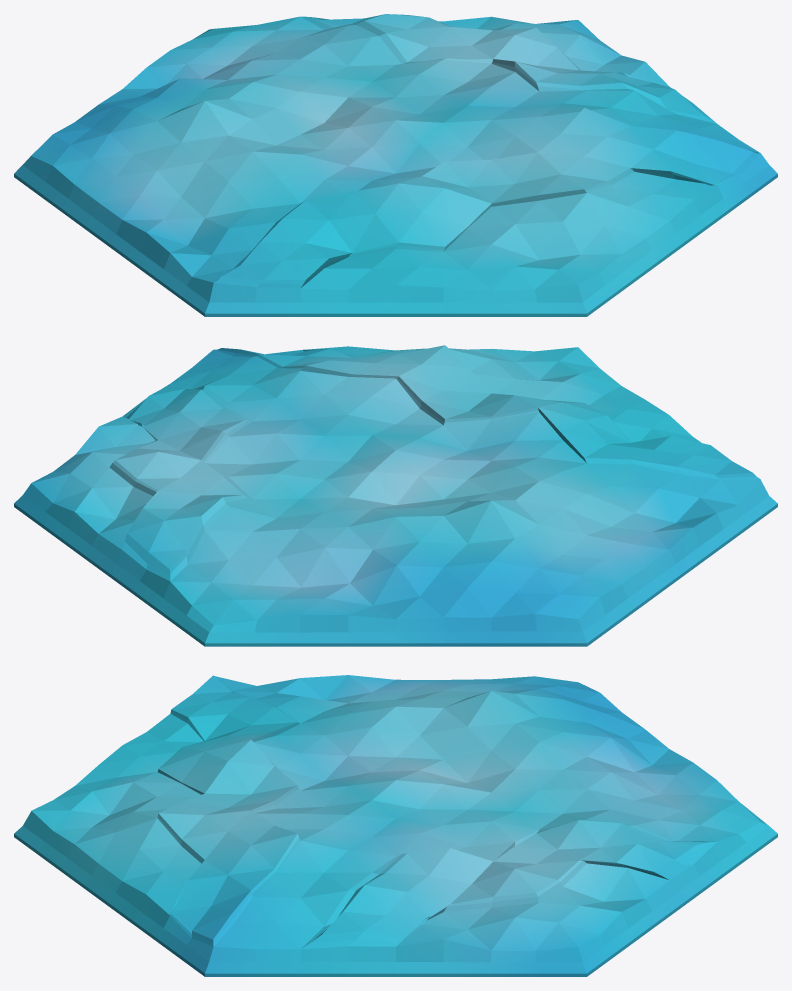
The model's file is ocean.glb.
The picture shows the model from 3 angles, top to bottom: view 1: azimuth 30°, elevation 25°; view 2: azimuth 150°, elevation 25°; view 3: azimuth 270°, elevation 25°; orthographic projection.
Parts seen in each view (by area): view 1: ocean; view 2: ocean; view 3: ocean.
Part boxes in pixels (bbox=[...]): ocean: bbox=[14, 14, 777, 316]; ocean: bbox=[14, 345, 777, 646]; ocean: bbox=[14, 675, 777, 976].
Size of the model in its own units: 1.73 by 0.2203 by 2.
